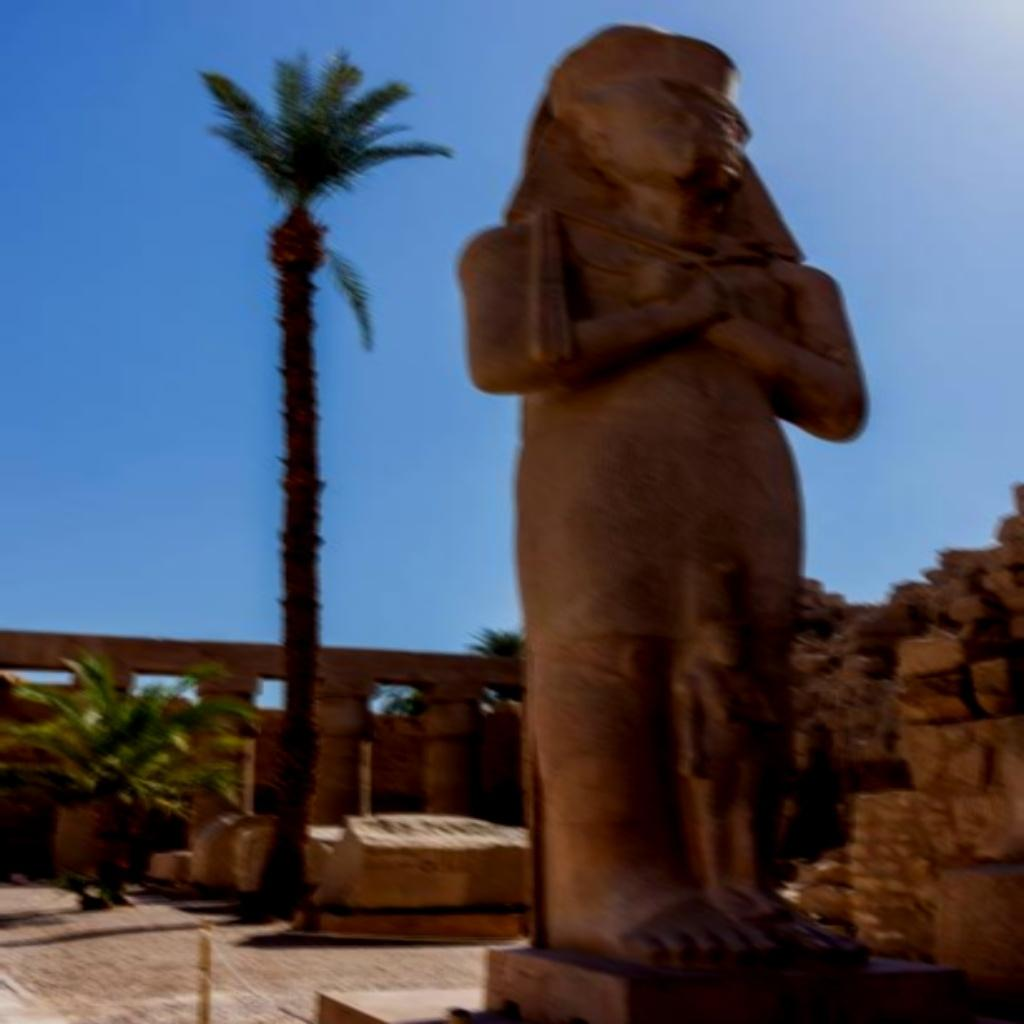Standing Statue of King Ramses II: (452, 18, 876, 970)
